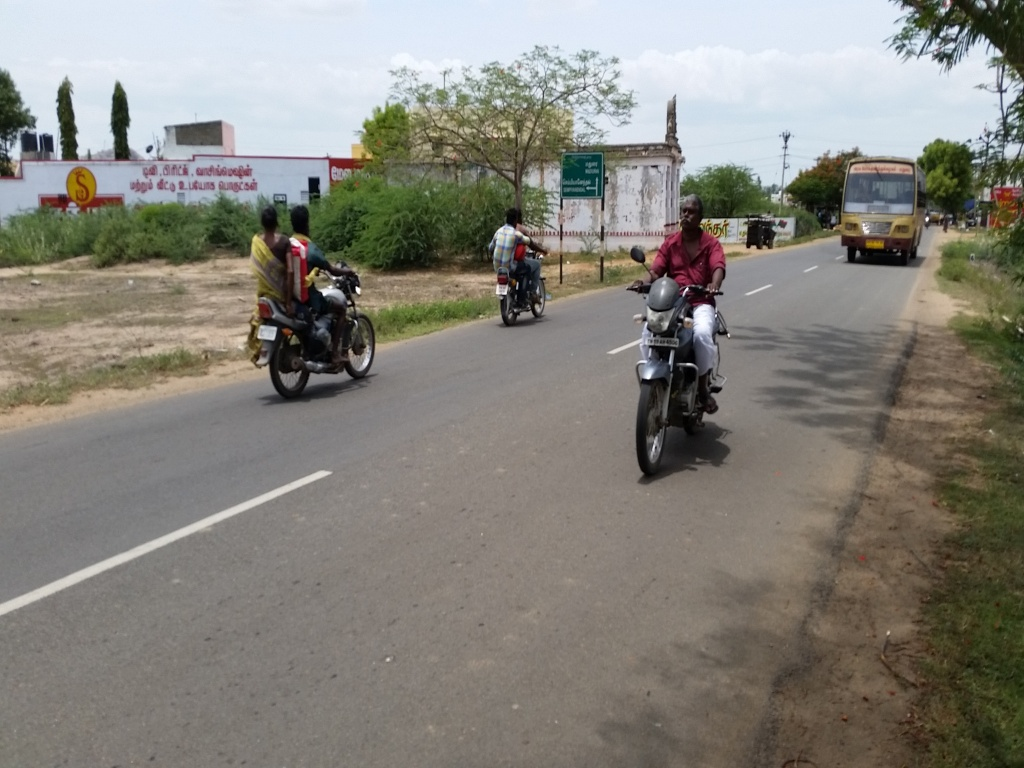biker: (600, 159, 759, 490), (224, 173, 390, 415), (472, 193, 568, 335)
nohelmet: (673, 185, 711, 242), (257, 201, 282, 242), (287, 201, 312, 242), (500, 202, 527, 229)
